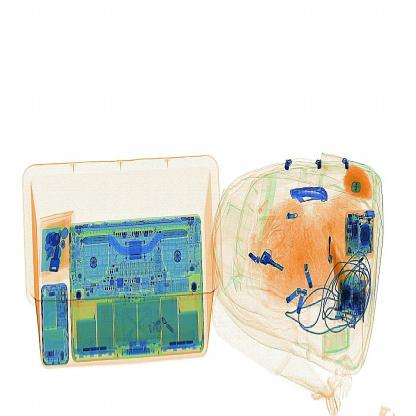knife: (282, 177, 335, 219)
